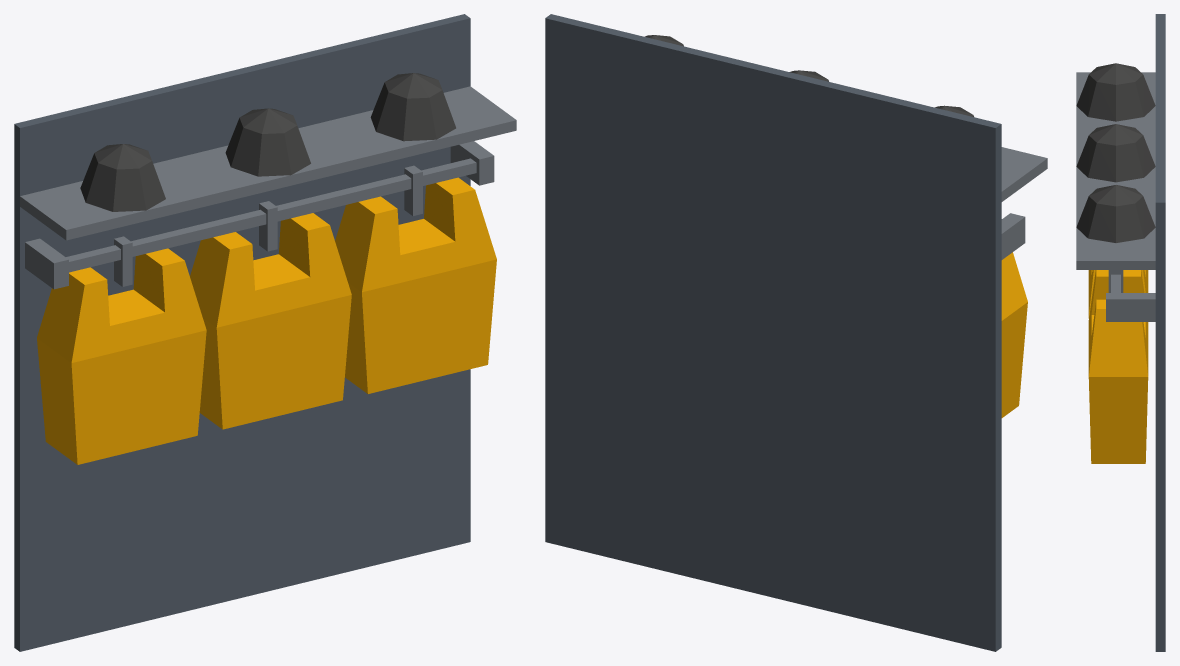
Rendered from armour_rack.glb.
The picture shows the model from 3 angles, left to right: view 1: azimuth 30°, elevation 25°; view 2: azimuth 150°, elevation 25°; view 3: azimuth 270°, elevation 25°; orthographic projection. The views are drawn at different scales.
Parts seen in each view (by area): view 1: armour_rack; view 2: armour_rack; view 3: armour_rack.
Boxes of the visible parts, x1,y1,x2,y2 form: armour_rack: (14,14,516,651); armour_rack: (545,14,1047,651); armour_rack: (1076,14,1165,651).
Bounding box in the file's own units: 1.8 × 2 × 0.36.
